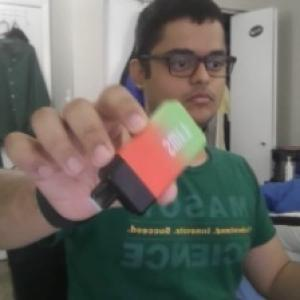Swift-E-Ciggirate: (87, 98, 209, 218)
